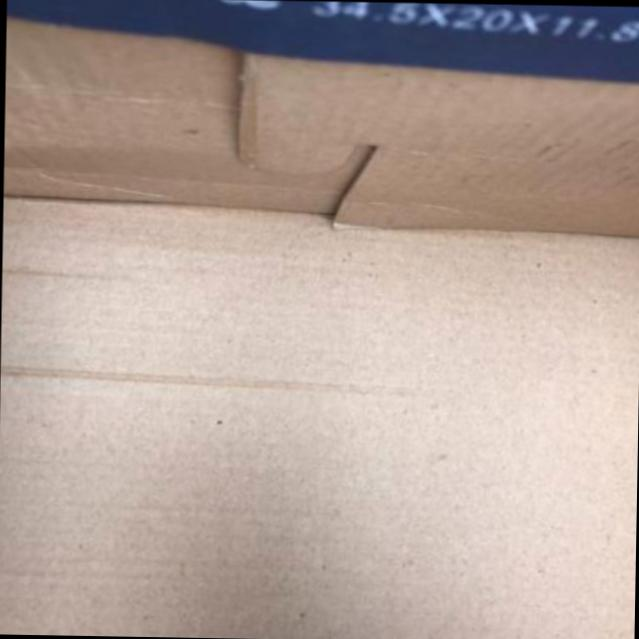cardboard paper: (0, 195, 639, 639), (0, 197, 639, 639), (236, 54, 639, 234), (2, 17, 355, 211)
